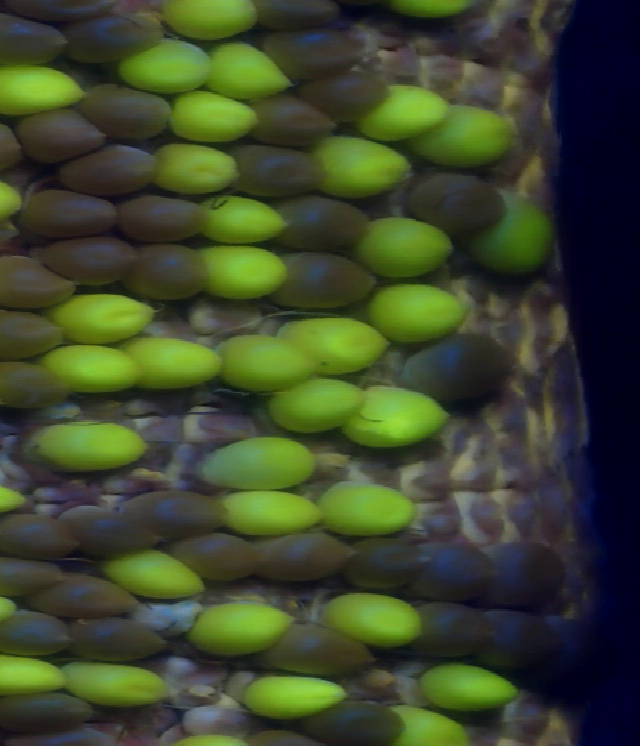fluorescent: (415, 101, 520, 168), (367, 275, 467, 343), (278, 314, 391, 374), (343, 384, 455, 444), (476, 188, 554, 274), (419, 654, 530, 713), (219, 489, 335, 544), (352, 215, 454, 276), (248, 672, 363, 726), (223, 337, 324, 398), (57, 662, 177, 713), (199, 438, 310, 493), (42, 344, 143, 402), (123, 336, 228, 391), (170, 83, 263, 145), (268, 373, 364, 433), (192, 601, 293, 658), (198, 41, 297, 99), (192, 243, 289, 301), (326, 593, 426, 649), (54, 291, 153, 347), (28, 423, 153, 467), (361, 84, 454, 143), (313, 137, 410, 193), (118, 41, 219, 93), (327, 479, 412, 539), (0, 58, 88, 113), (103, 555, 213, 598), (155, 144, 240, 196), (201, 196, 286, 245), (157, 1, 262, 38), (383, 704, 468, 746), (0, 651, 72, 696), (0, 468, 31, 518), (394, 1, 474, 17)
nonfluorescent: (402, 341, 525, 404), (265, 198, 380, 257), (257, 619, 378, 673), (25, 569, 148, 622), (413, 171, 503, 242), (54, 500, 169, 555), (542, 610, 618, 693), (282, 247, 379, 311), (162, 527, 272, 581), (482, 541, 571, 605), (288, 63, 392, 117), (255, 25, 366, 75), (485, 607, 562, 679), (236, 141, 332, 198), (11, 108, 108, 164), (254, 531, 357, 583), (63, 616, 180, 661), (128, 241, 213, 301), (45, 233, 135, 289), (13, 187, 118, 234), (413, 544, 506, 597), (57, 144, 159, 191), (63, 14, 165, 61), (251, 93, 339, 145), (112, 195, 206, 242), (80, 84, 168, 134), (0, 357, 75, 415), (0, 251, 81, 304), (312, 701, 406, 746), (0, 10, 73, 67), (416, 601, 492, 654), (348, 540, 430, 589), (0, 507, 80, 557), (0, 604, 78, 653), (123, 495, 224, 532), (0, 304, 65, 359), (0, 694, 98, 726), (0, 547, 59, 591), (258, 1, 345, 28)
